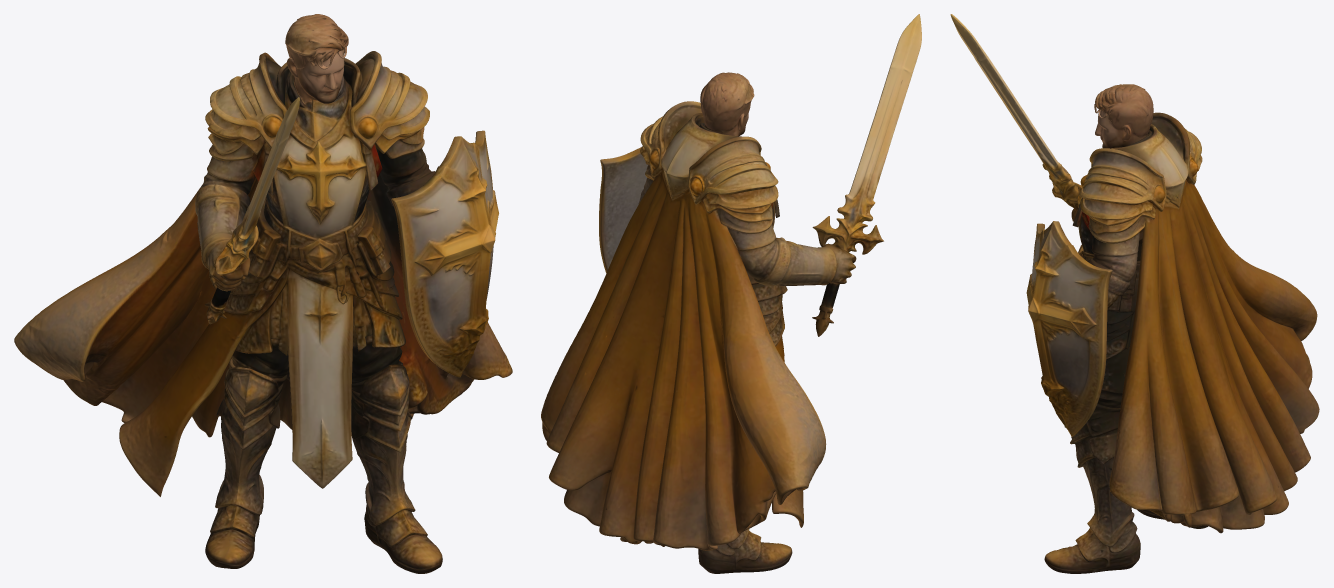
File: paladin_full_male_01.glb
3 renders of one model, left to right at view 1: azimuth 30°, elevation 25°; view 2: azimuth 150°, elevation 25°; view 3: azimuth 270°, elevation 25°, orthographic. The views are drawn at different scales.
Visible parts, largest first — view 1: material; view 2: material; view 3: material.
Boxes of the visible parts, bbox=[...] form: material: bbox=[14, 14, 512, 573]; material: bbox=[541, 14, 921, 573]; material: bbox=[950, 14, 1319, 573].
Bounding box in the file's own units: 0.669 × 0.9176 × 0.6454.
Materials: 1 (1 with a texture image).
